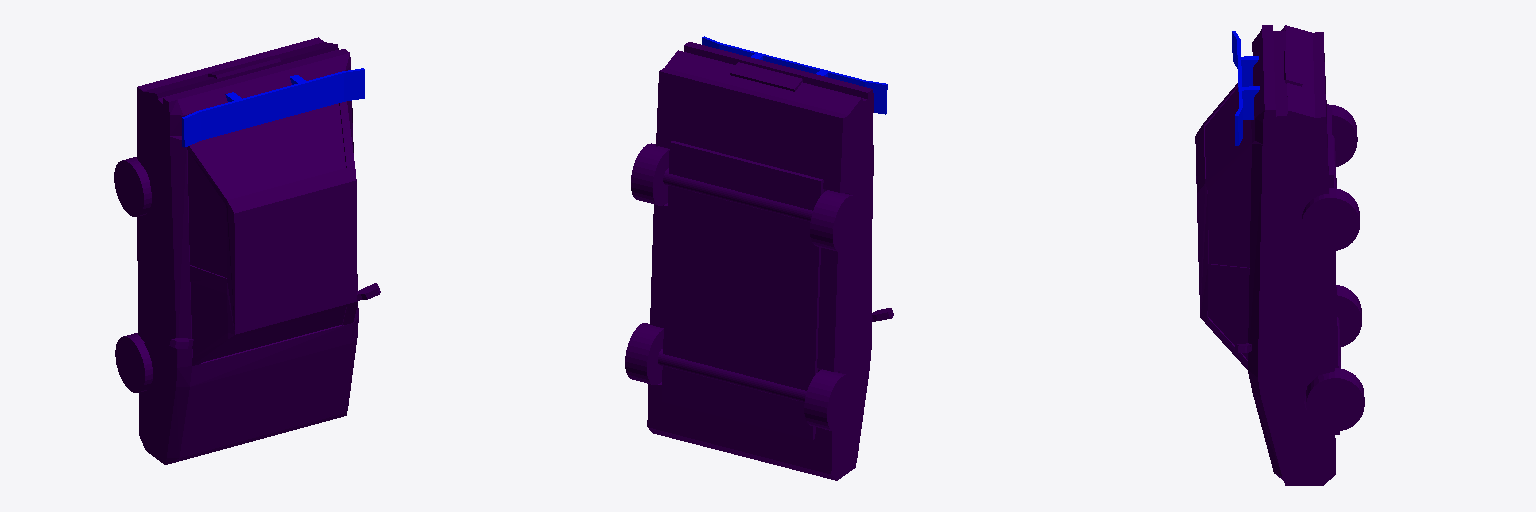
Rendered from roxo_car.obj.
3 views of the same model, side by side, from view 1: azimuth 30°, elevation 25°; view 2: azimuth 150°, elevation 25°; view 3: azimuth 270°, elevation 25° (orthographic).
Parts seen in each view (by area): view 1: Cylinder.001, Cube.002; view 2: Cylinder.001, Cube.002; view 3: Cylinder.001, Cube.002.
Boxes of the visible parts, box(x1,y1,x2,y2) form: Cylinder.001: box(114, 37, 380, 464); Cube.002: box(182, 68, 364, 147); Cylinder.001: box(625, 42, 893, 480); Cube.002: box(702, 36, 887, 114); Cylinder.001: box(1195, 25, 1364, 485); Cube.002: box(1232, 31, 1259, 145).
Bounding box in the file's own units: 2.31 × 3.96 × 1.61.